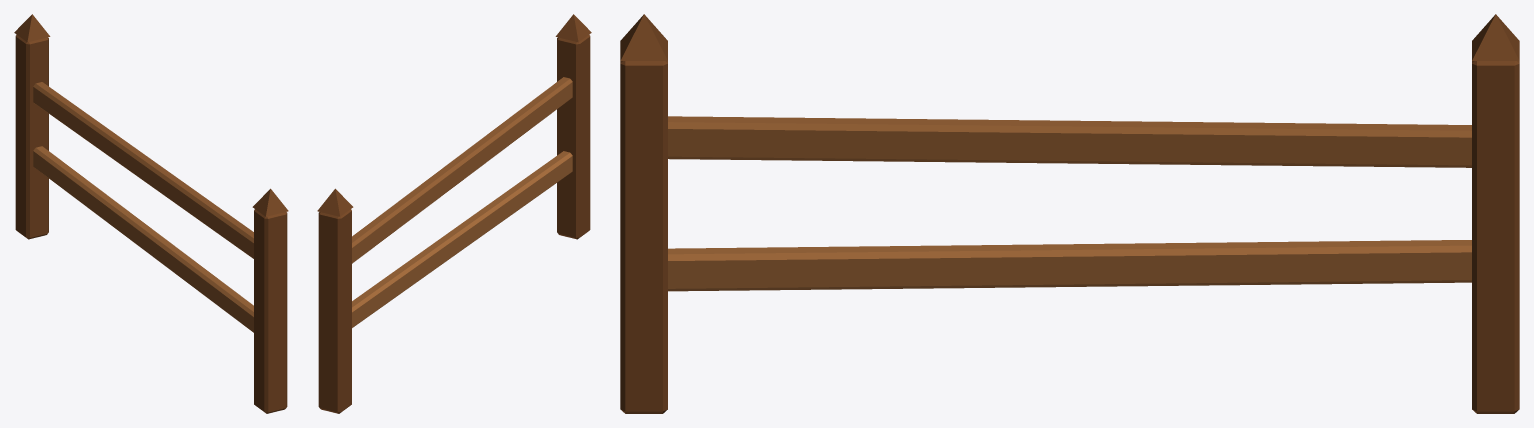
Rendered from fence.glb.
3 renders of one model, left to right at view 1: azimuth 30°, elevation 25°; view 2: azimuth 150°, elevation 25°; view 3: azimuth 270°, elevation 25°, orthographic. The views are drawn at different scales.
Visible parts, largest first — view 1: fence; view 2: fence; view 3: fence.
Part boxes in pixels (x1,y1,x2,y2): fence: (14,14,288,413); fence: (317,14,591,413); fence: (620,14,1519,413).
Size of the model in its own units: 0.14 by 1.27 by 2.64.
